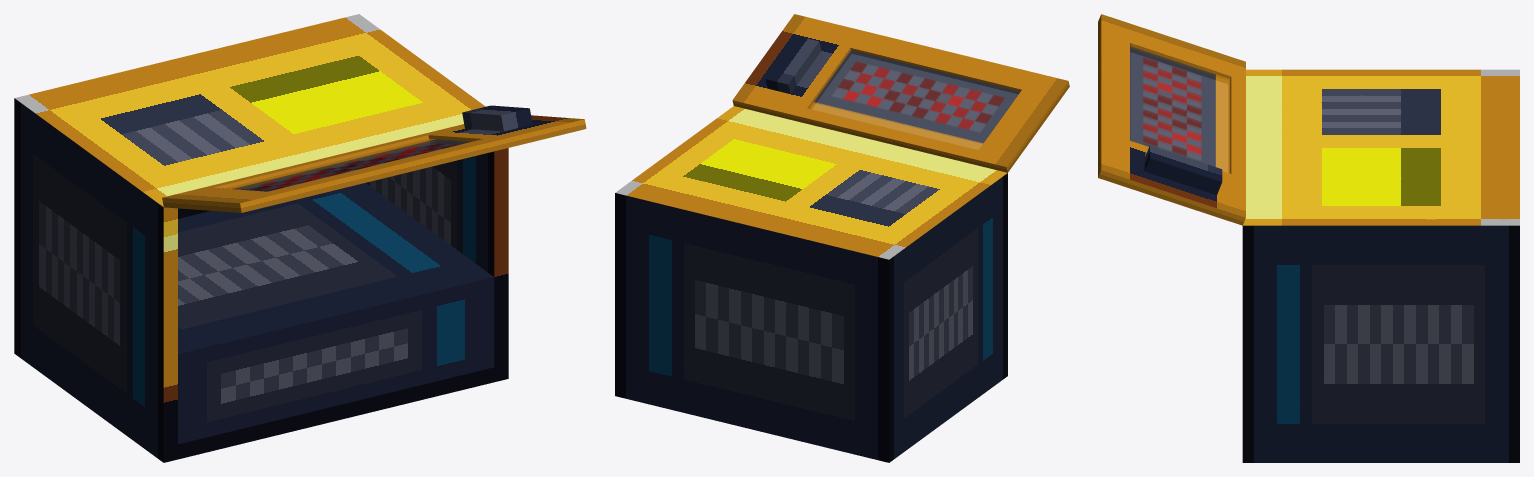
The model's file is microwave_engineering_dirty_open.glb.
3 renders of one model, left to right at view 1: azimuth 30°, elevation 25°; view 2: azimuth 150°, elevation 25°; view 3: azimuth 270°, elevation 25°, orthographic. The views are drawn at different scales.
Parts seen in each view (by area): view 1: Engineering_Continuous_Cabinet, Engineering_Door_Frame, Engineering_Door_Glass, Engineering_Door_Handle; view 2: Engineering_Continuous_Cabinet, Engineering_Door_Frame, Engineering_Door_Glass, Engineering_Door_Handle; view 3: Engineering_Continuous_Cabinet, Engineering_Door_Frame, Engineering_Door_Glass, Engineering_Door_Handle.
Boxes of the visible parts, box(x1,y1,x2,y2) form: Engineering_Continuous_Cabinet: box(14, 14, 508, 462); Engineering_Door_Frame: box(162, 115, 586, 212); Engineering_Door_Glass: box(225, 138, 470, 191); Engineering_Door_Handle: box(462, 105, 532, 131); Engineering_Continuous_Cabinet: box(615, 106, 1007, 462); Engineering_Door_Frame: box(732, 14, 1069, 172); Engineering_Door_Glass: box(809, 50, 1020, 149); Engineering_Door_Handle: box(765, 36, 821, 93); Engineering_Continuous_Cabinet: box(1242, 69, 1519, 462); Engineering_Door_Frame: box(1098, 14, 1245, 225); Engineering_Door_Glass: box(1130, 46, 1230, 173); Engineering_Door_Handle: box(1144, 145, 1222, 195).
Size of the model in its own units: 0.675 by 0.5902 by 0.7705.
2 materials, 2 textured.
